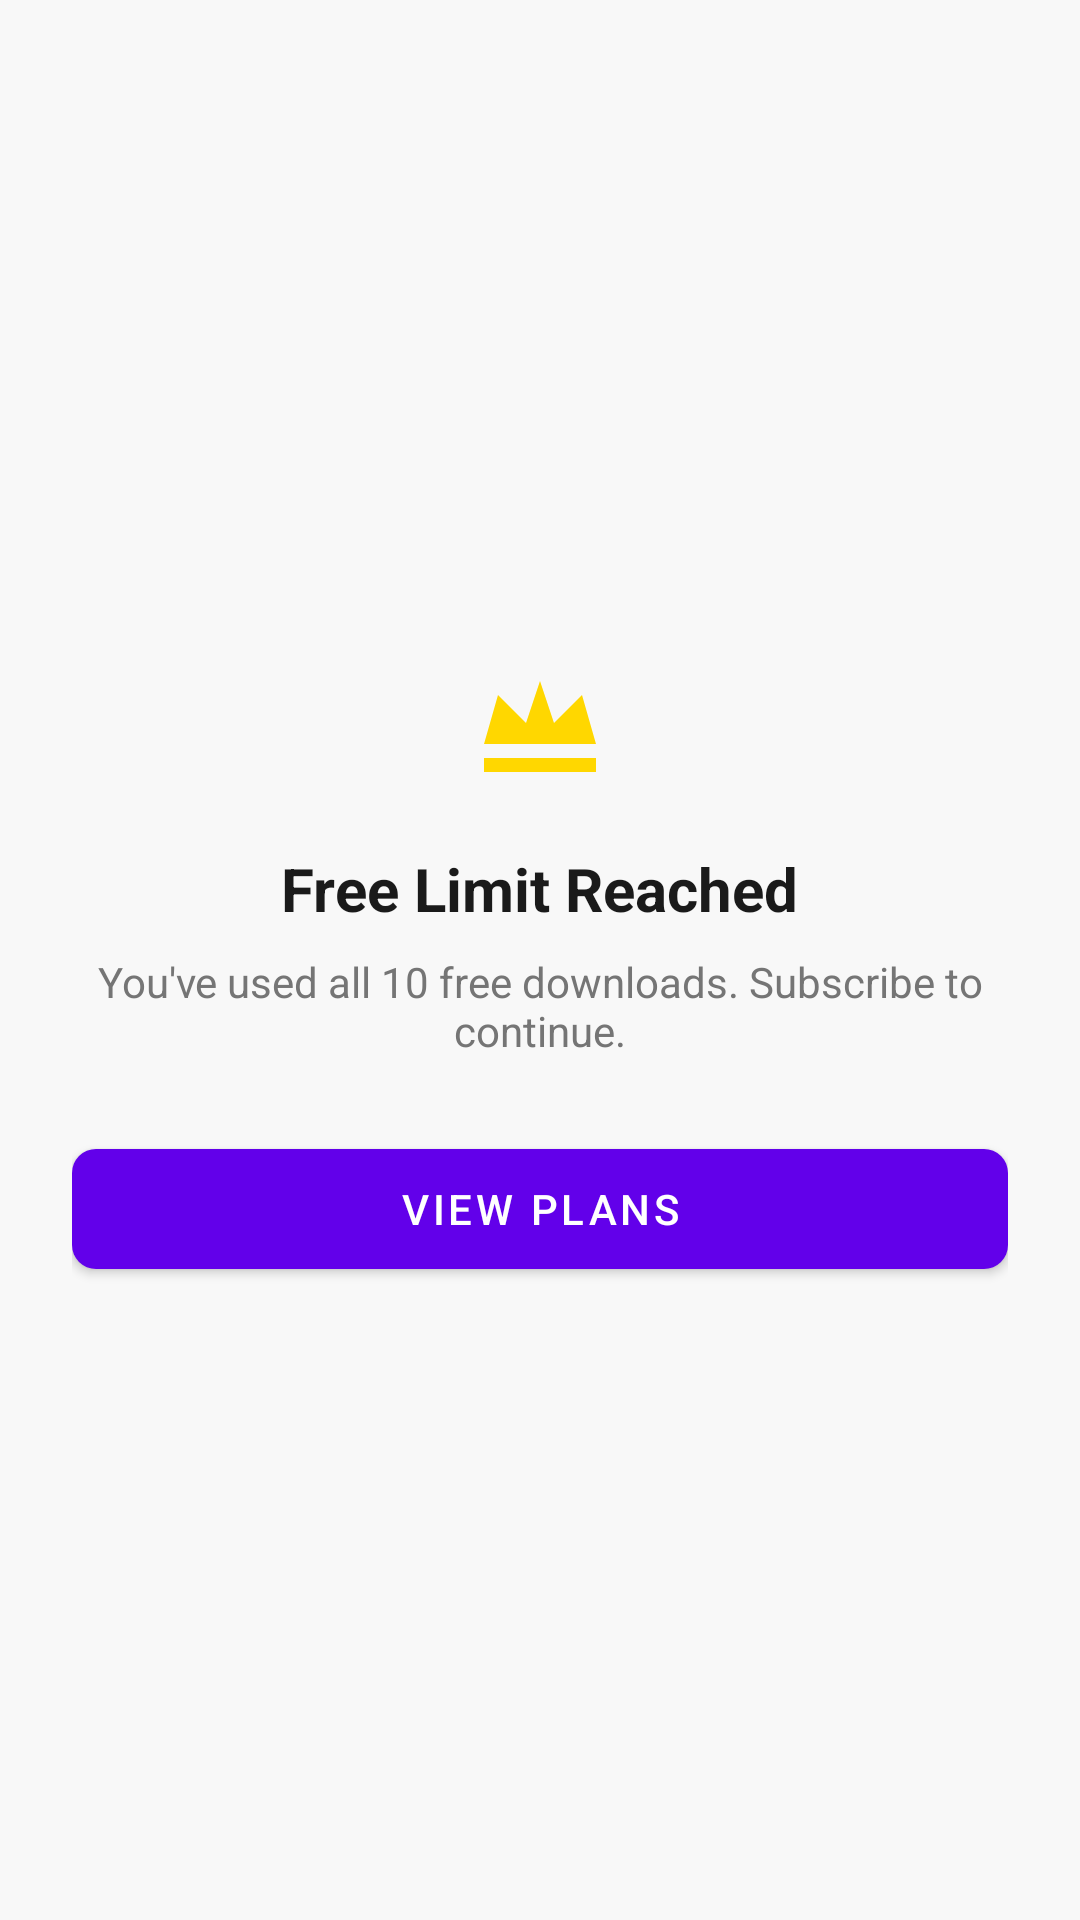

Point at icon controls on the screen. Image size 1080 x 1920, points as point (x, y).
crown: point (540, 726)
